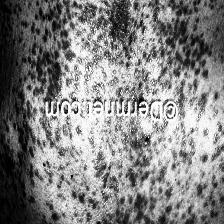Non-Cancerous Skin Condition: (0, 125, 224, 224), (2, 0, 211, 85)
